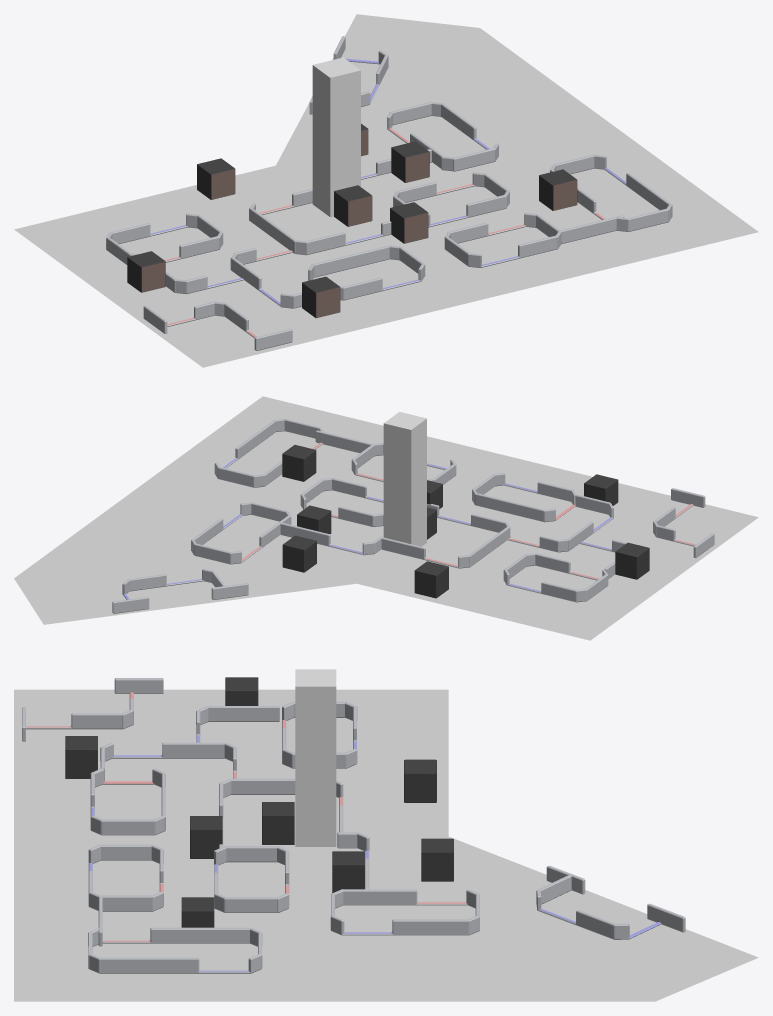
File: SongjiangWandaMap.fbx
3 views of the same model, one above another, from view 1: azimuth 30°, elevation 25°; view 2: azimuth 150°, elevation 25°; view 3: azimuth 270°, elevation 25° (orthographic). The views are drawn at different scales.
Visible parts, largest first — view 1: Ground, Cube.003, Pillar.001, Pillar.002, Pillar.004, Pillar, Pillar.003, Pillar.006, Pillar.007, WallBox_010, WallBox_011, WallBox_052 (+12 smaller); view 2: Ground, Cube.003, Pillar.003, Pillar.005, Pillar.006, Pillar.001, WallBox_010, Pillar, Pillar.004, WallBox_021, WallBox_030, WallBox_052 (+20 smaller); view 3: Ground, Cube.003, WallBox_047, WallBox_046, WallBox_024, WallBox_020, Pillar.005, Pillar.006, Pillar.002, Pillar, Pillar.007, Pillar.004 (+15 smaller).
Part boxes in pixels (bbox=[...]): Ground: bbox=[14, 14, 758, 367]; Cube.003: bbox=[312, 57, 360, 217]; Pillar.001: bbox=[127, 251, 165, 292]; Pillar.002: bbox=[334, 185, 372, 226]; Pillar.004: bbox=[391, 141, 429, 182]; Pillar: bbox=[302, 276, 340, 318]; Pillar.003: bbox=[539, 169, 577, 210]; Pillar.006: bbox=[197, 158, 235, 199]; Pillar.007: bbox=[390, 202, 428, 243]; WallBox_010: bbox=[311, 245, 390, 277]; WallBox_011: bbox=[305, 221, 391, 254]; WallBox_052: bbox=[559, 215, 624, 243]; Ground: bbox=[14, 396, 758, 640]; Cube.003: bbox=[383, 412, 426, 546]; Pillar.003: bbox=[282, 445, 316, 481]; Pillar.005: bbox=[282, 535, 316, 572]; Pillar.006: bbox=[414, 561, 448, 598]; Pillar.001: bbox=[615, 542, 649, 579]; WallBox_010: bbox=[474, 493, 545, 522]; Pillar: bbox=[584, 474, 618, 505]; Pillar.004: bbox=[297, 505, 331, 534]; WallBox_021: bbox=[280, 522, 364, 554]; WallBox_030: bbox=[381, 537, 459, 568]; WallBox_052: bbox=[315, 430, 373, 453]; Ground: bbox=[14, 689, 758, 1001]; Cube.003: bbox=[295, 669, 336, 846]; WallBox_047: bbox=[98, 957, 250, 973]; WallBox_046: bbox=[102, 927, 251, 943]; WallBox_024: bbox=[340, 919, 470, 935]; WallBox_020: bbox=[342, 889, 467, 905]; Pillar.005: bbox=[421, 838, 453, 881]; Pillar.006: bbox=[404, 759, 436, 802]; Pillar.002: bbox=[262, 802, 294, 844]; Pillar: bbox=[65, 736, 97, 778]; Pillar.007: bbox=[190, 816, 222, 858]; Pillar.004: bbox=[332, 851, 364, 892].
Bounding box in the file's own units: 18.07 × 4.33 × 18.23.
